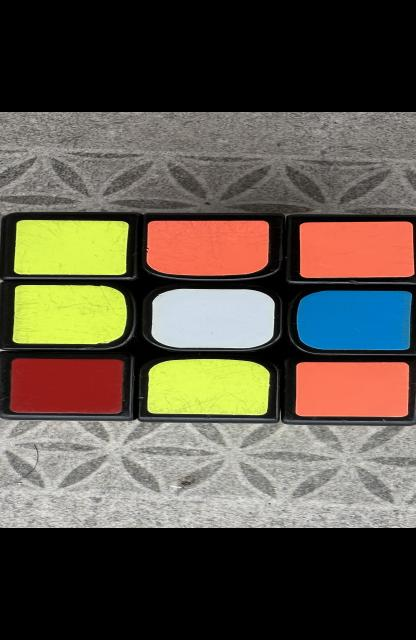Blue: (295, 291, 411, 350)
Orange: (146, 221, 268, 275), (300, 222, 413, 278), (295, 362, 408, 418)
Red: (8, 358, 123, 413)
White: (150, 288, 275, 348)
Yellow: (146, 359, 270, 415), (11, 285, 126, 344), (13, 220, 128, 275)
